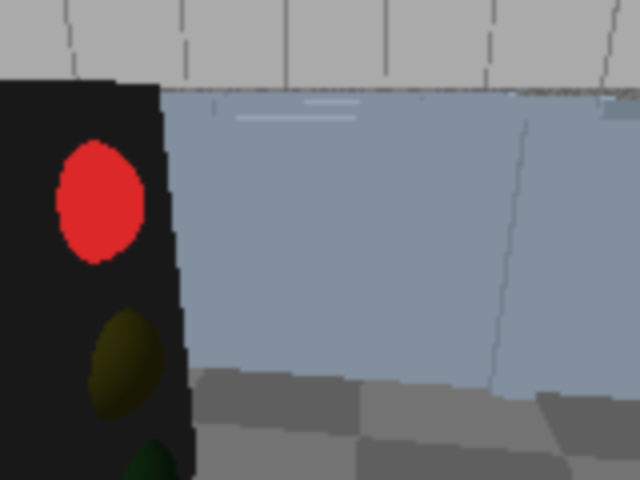traffic_light: (0, 0, 215, 478)
